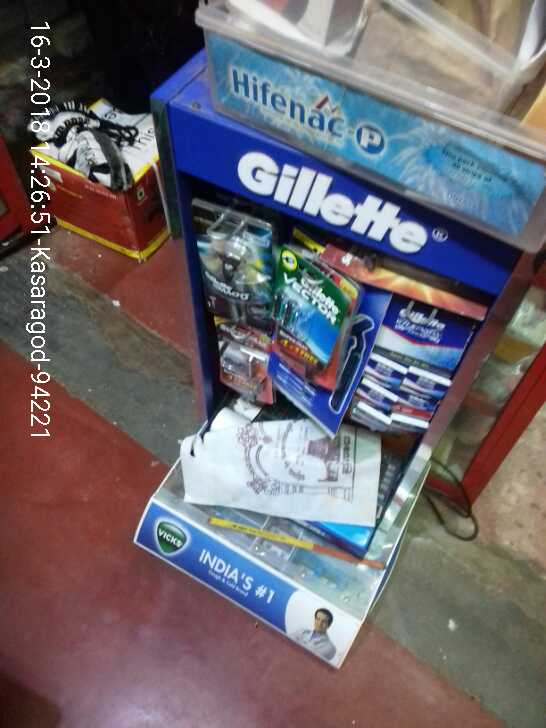gillette: (367, 305, 452, 441), (201, 214, 267, 333), (266, 267, 323, 368)
